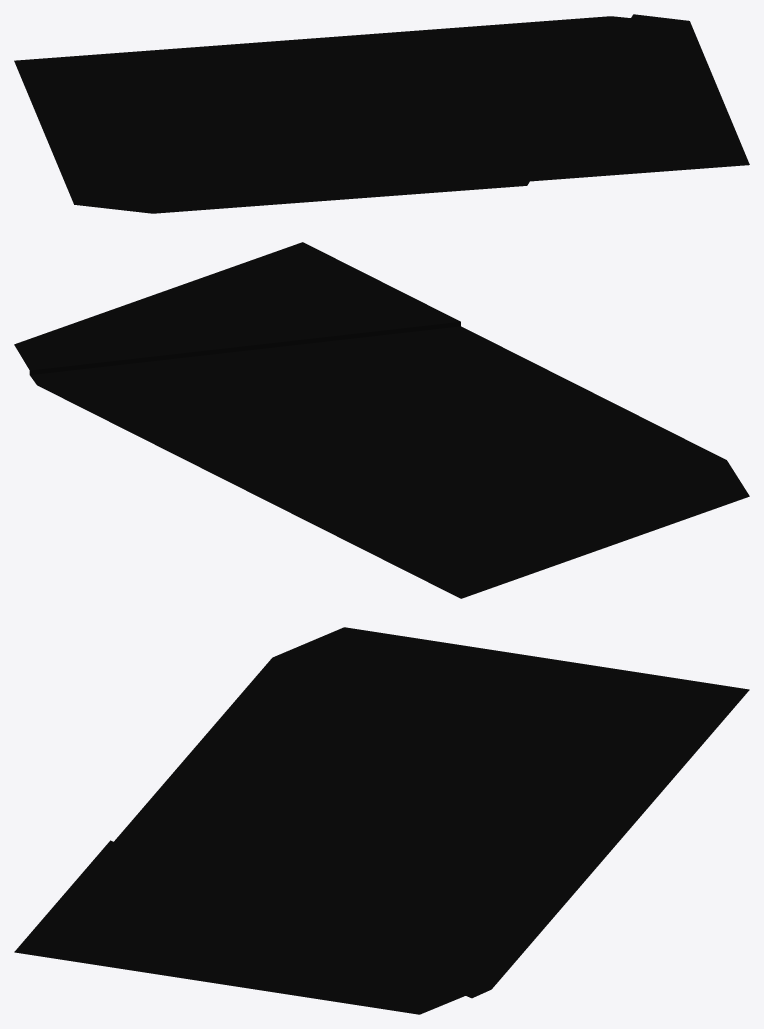
The picture shows the model from 3 angles, top to bottom: view 1: azimuth 30°, elevation 25°; view 2: azimuth 150°, elevation 25°; view 3: azimuth 270°, elevation 25°; orthographic projection. The views are drawn at different scales.
Visible parts, largest first — view 1: Joint_0_Object_0; view 2: Joint_0_Object_0; view 3: Joint_0_Object_0.
Part boxes in pixels (x1,y1,x2,y2): Joint_0_Object_0: (14,14,749,213); Joint_0_Object_0: (14,242,749,598); Joint_0_Object_0: (14,627,749,1014).
Size of the model in its own units: 646 by 4 by 511.
Materials: 1 (1 with a texture image).
